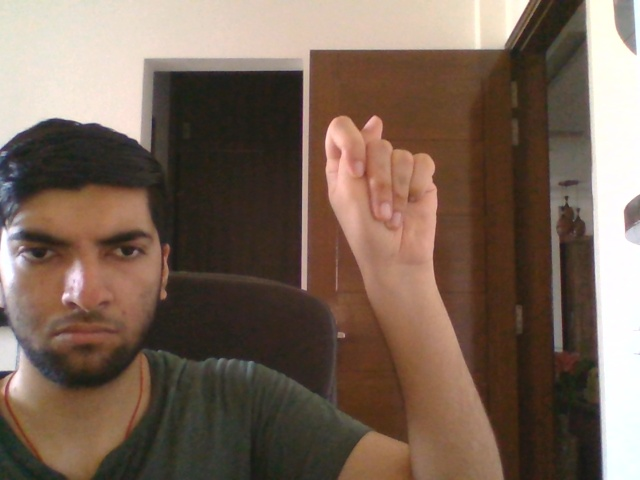LetterT: (322, 112, 440, 269)
